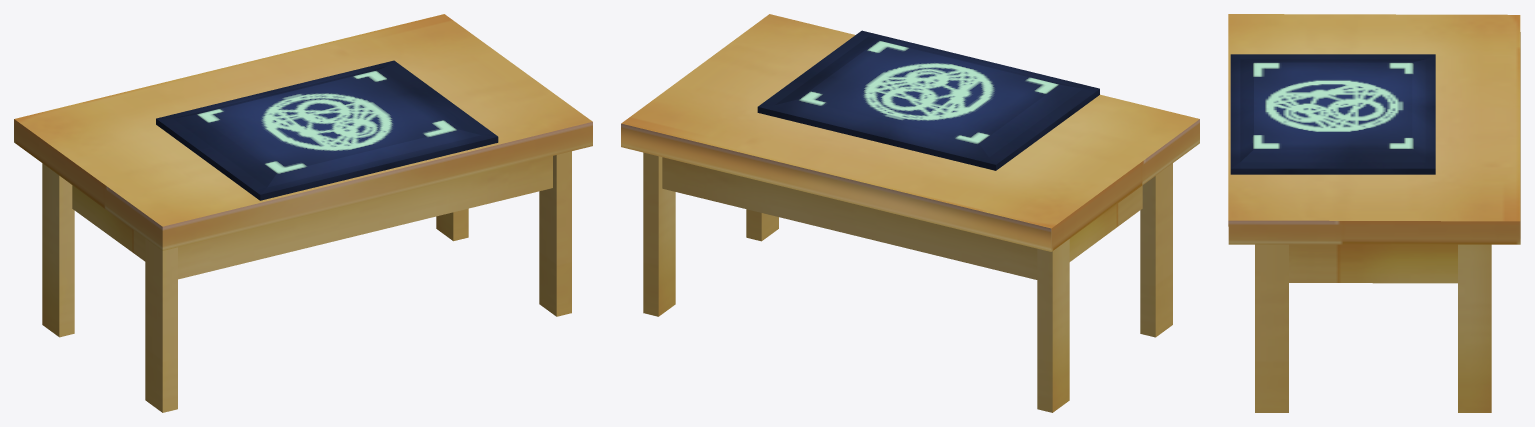
The model's file is object market.FBX.
The picture shows the model from 3 angles, left to right: view 1: azimuth 30°, elevation 25°; view 2: azimuth 150°, elevation 25°; view 3: azimuth 270°, elevation 25°; orthographic projection.
Visible parts, largest first — view 1: Object101; view 2: Object101; view 3: Object101.
Boxes of the visible parts, x1,y1,x2,y2 form: Object101: [14, 14, 592, 412]; Object101: [621, 14, 1199, 412]; Object101: [1228, 14, 1520, 412].
Bounding box in the file's own units: 168 × 78.93 × 100.
